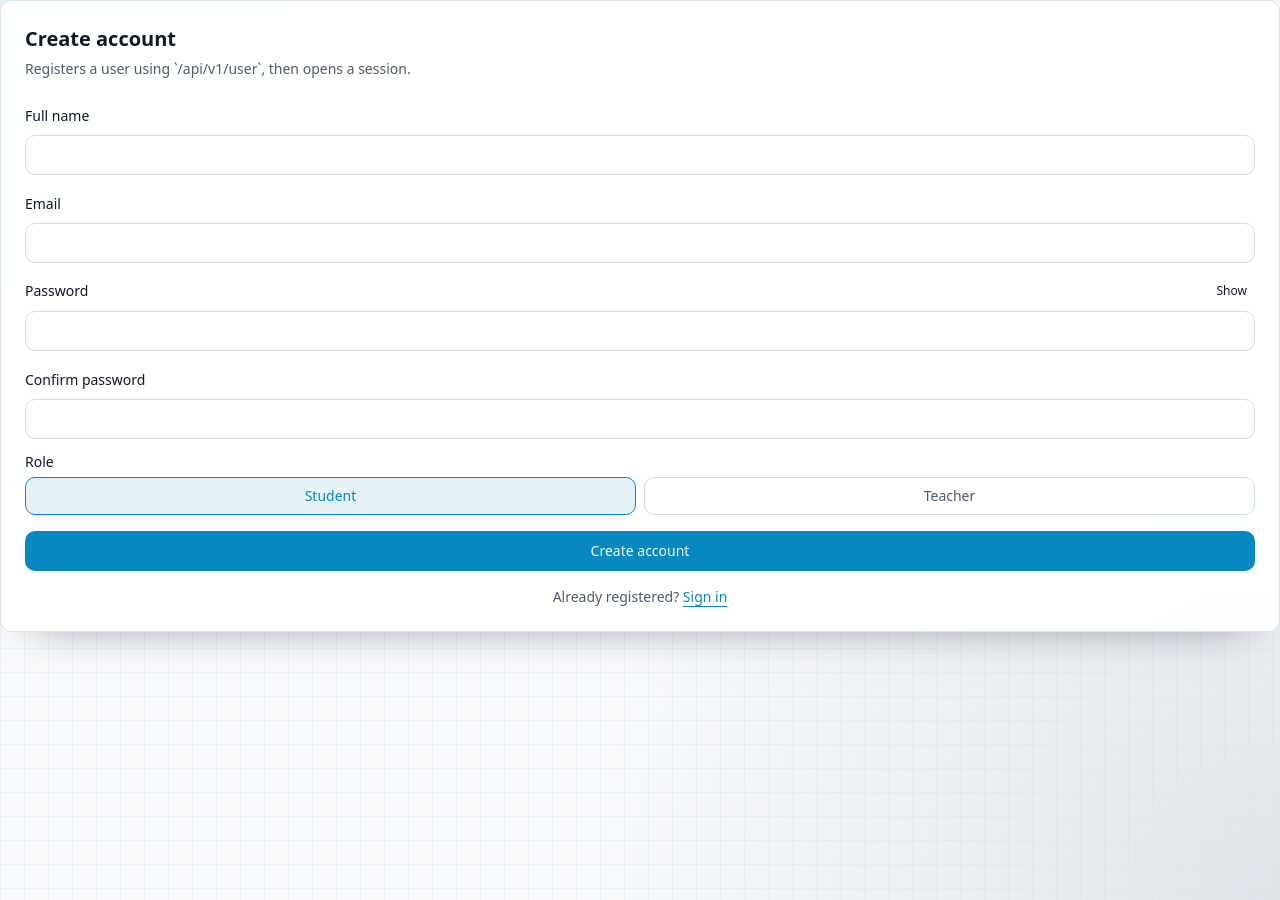
Scenario: RegisterForm › shows validation error when passwords do not match
The width and height of the screenshot is (1280, 900).
Type "Ada Lovelace" into the field labelled "Full name".
click(640, 155); type("Ada Lovelace")  # box [25,135,1255,175]
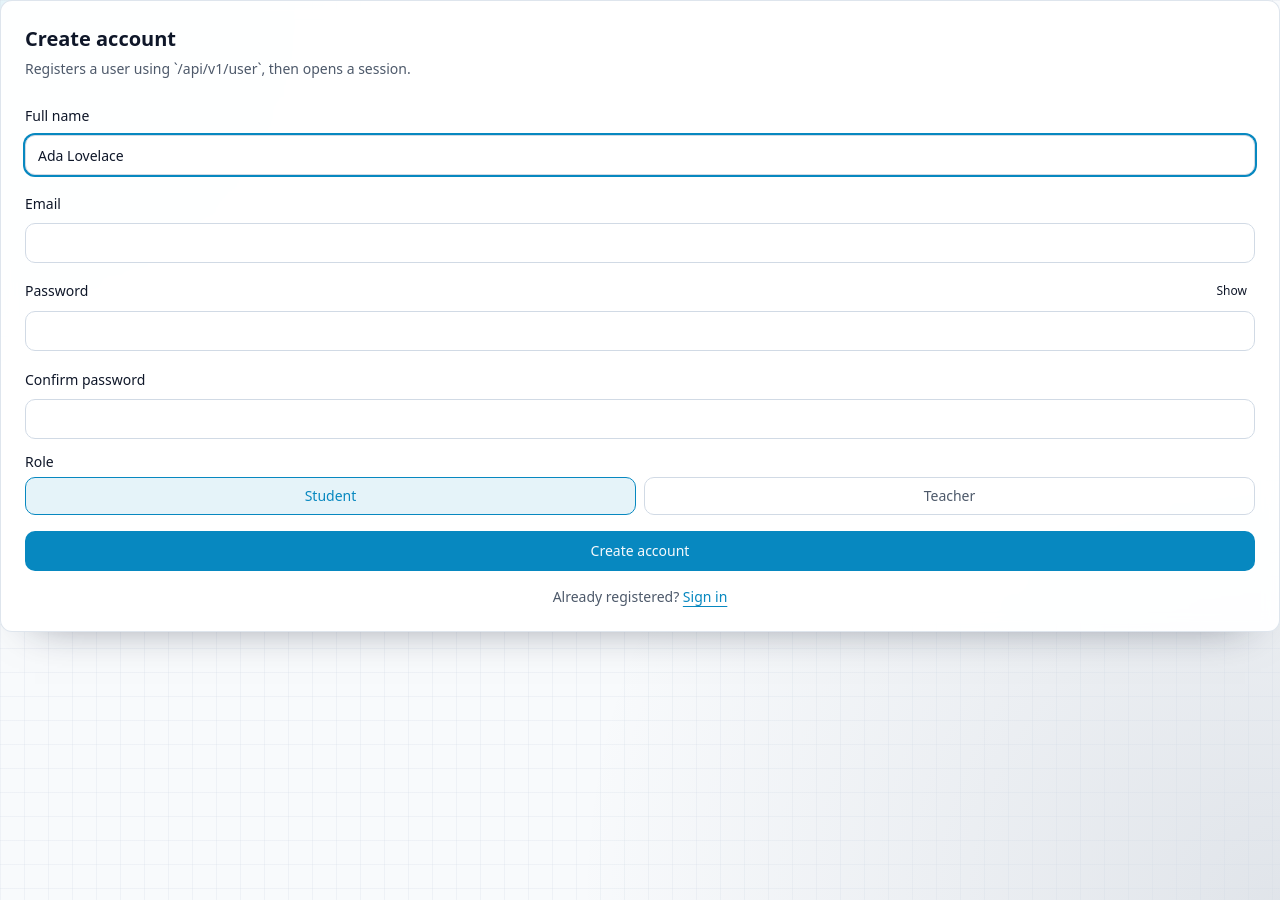
Type "ada@example.com" into the field labelled "Email".
click(640, 243); type("ada@example.com")  # box [25,223,1255,263]
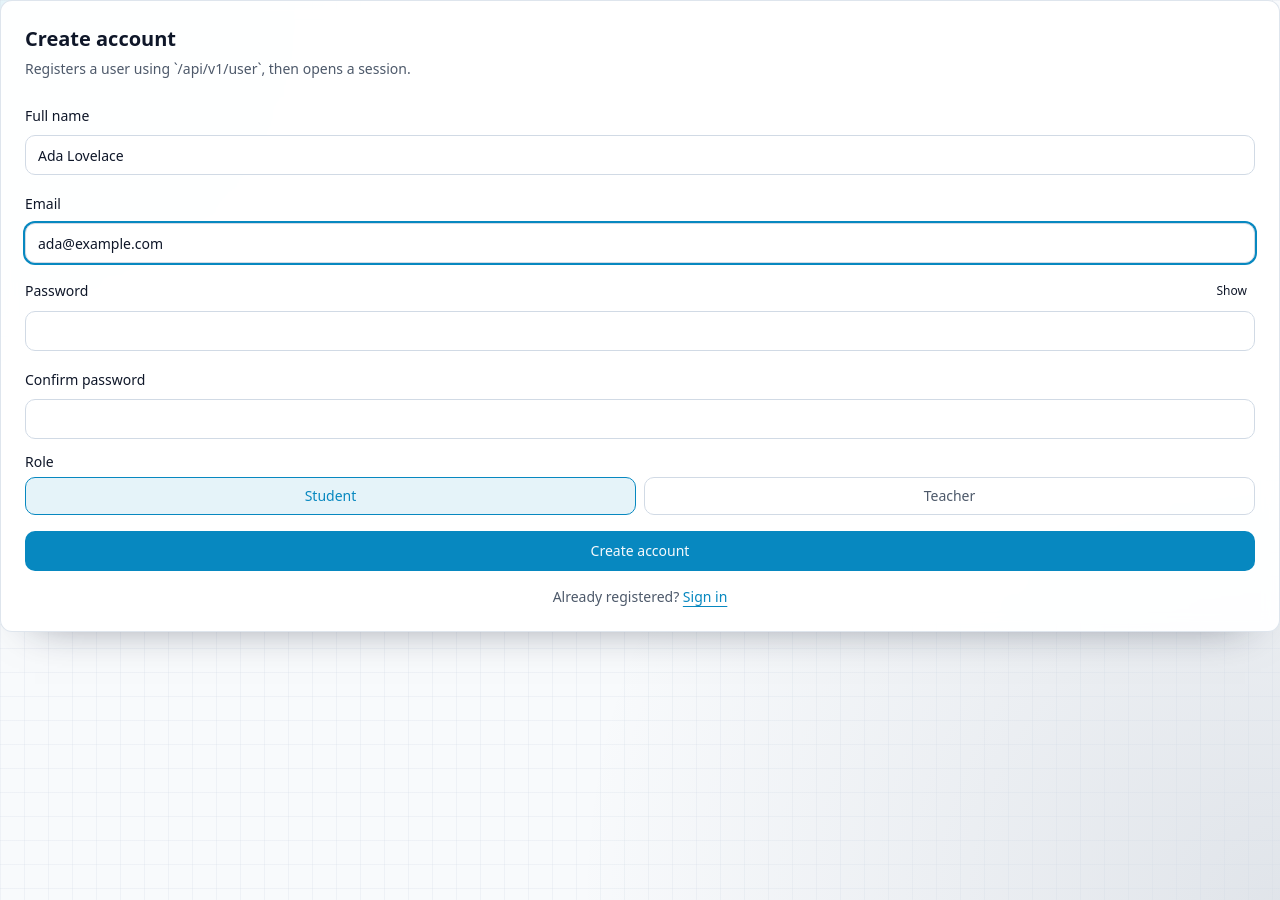
Type "password123" into the password field labelled "Password".
click(640, 331); type("password123")  # box [25,311,1255,351]
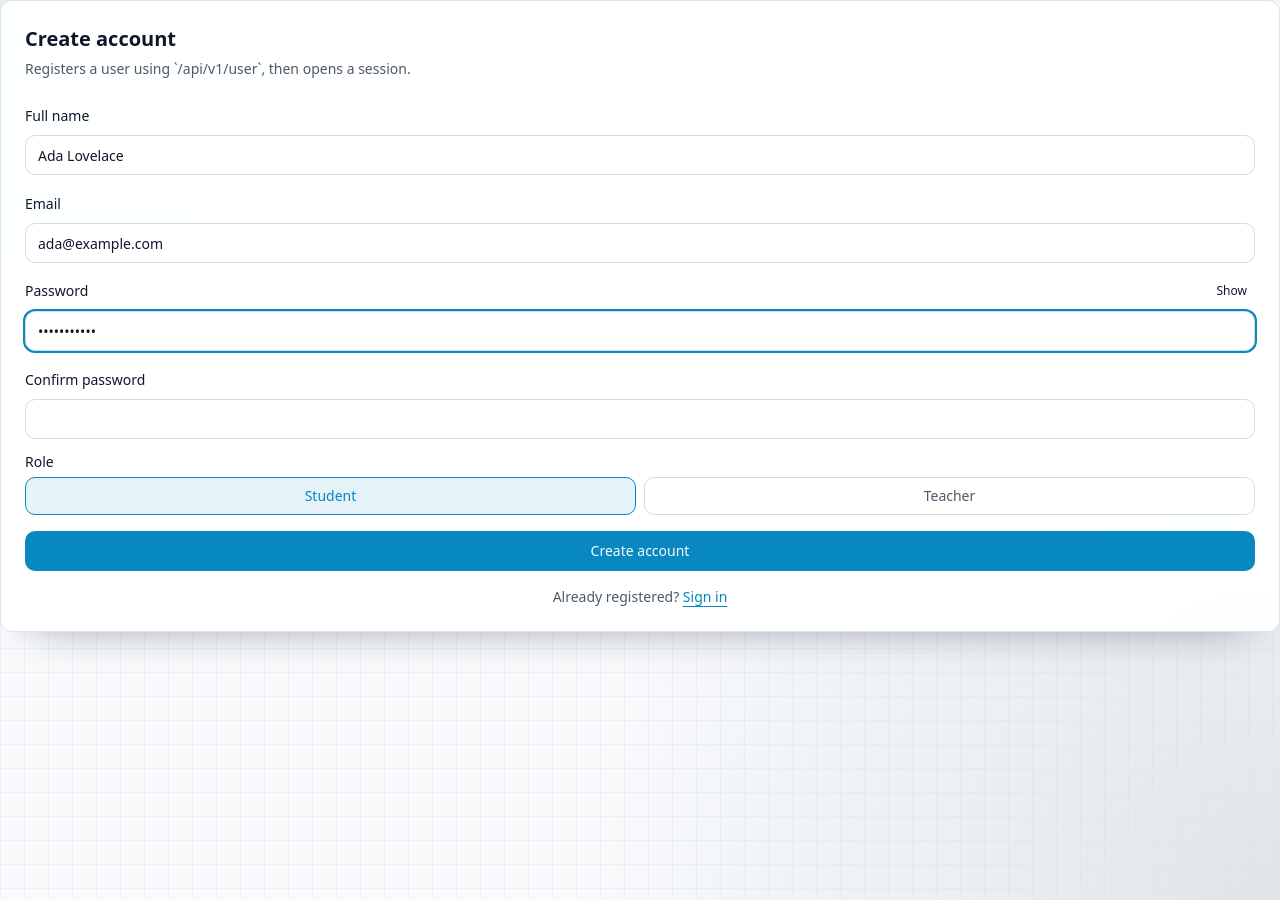
Type "password456" into the password field labelled "Confirm password".
click(640, 419); type("password456")  # box [25,399,1255,439]
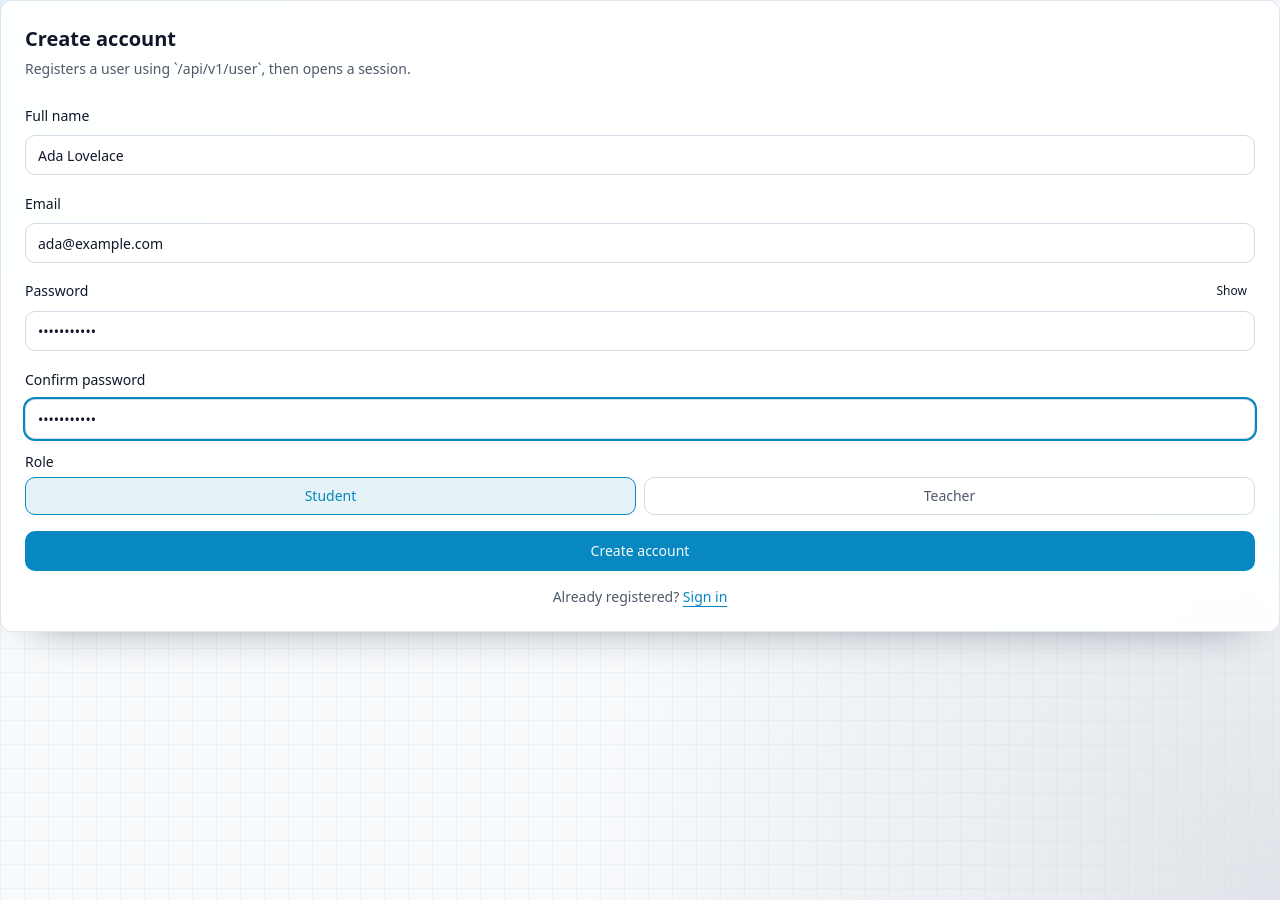
Click the button "Create account".
click(640, 551)  # box [25,531,1255,571]
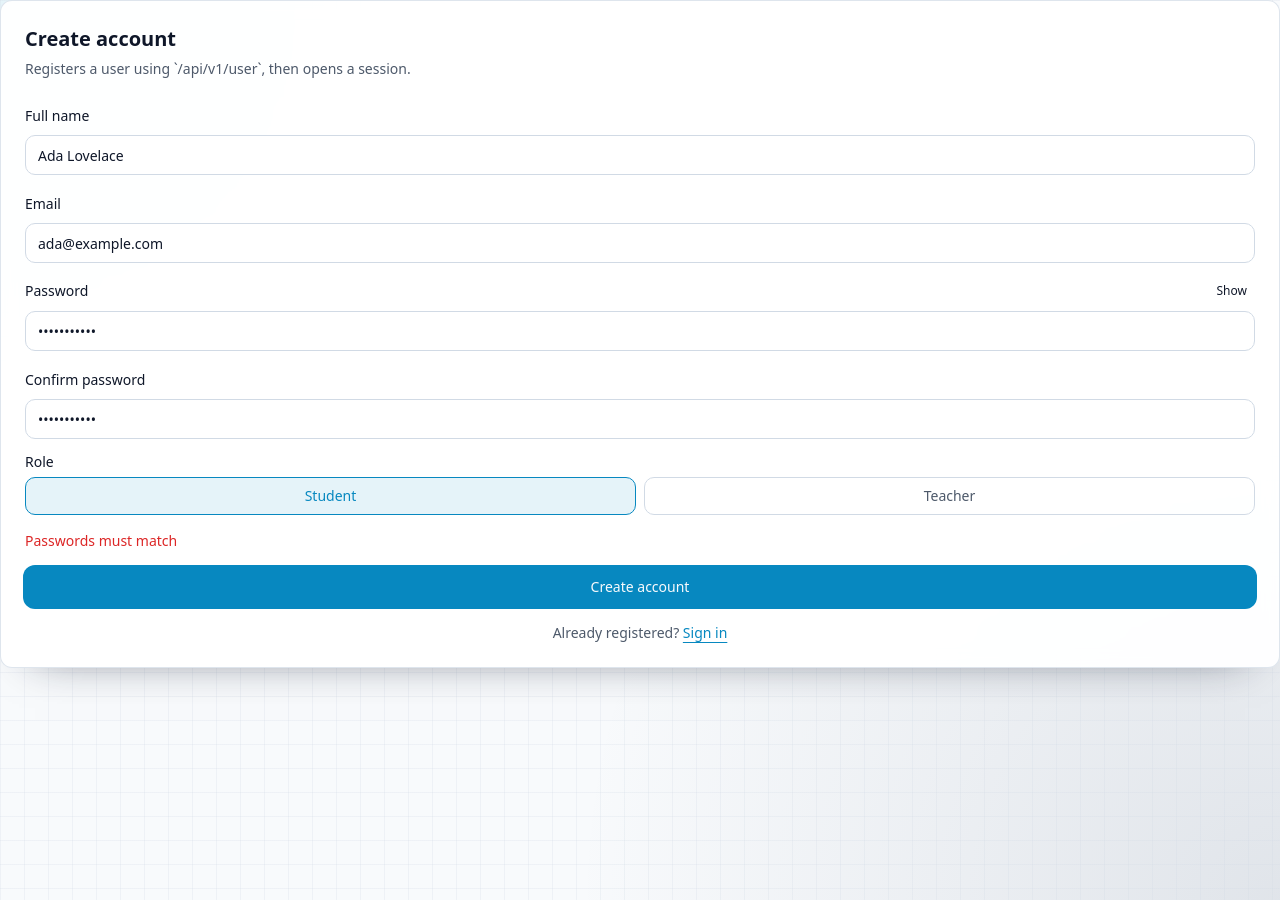
expect the text "Passwords must match" is shown: met, box [25,531,177,550]
